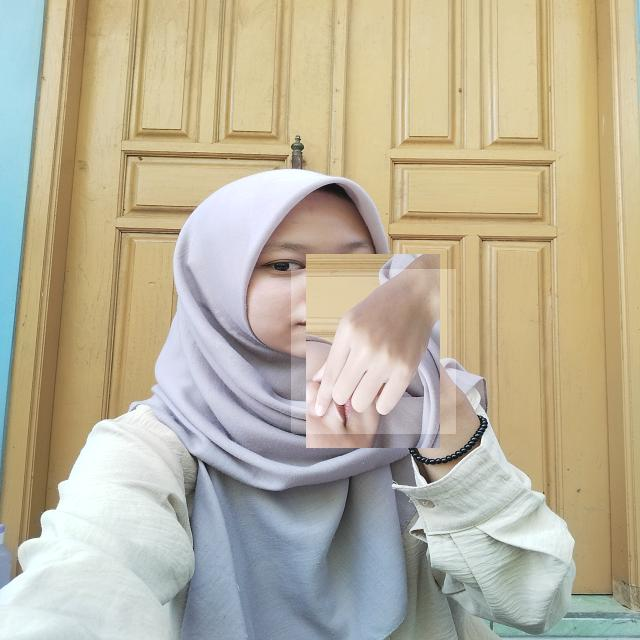bau: (291, 269, 456, 434)
